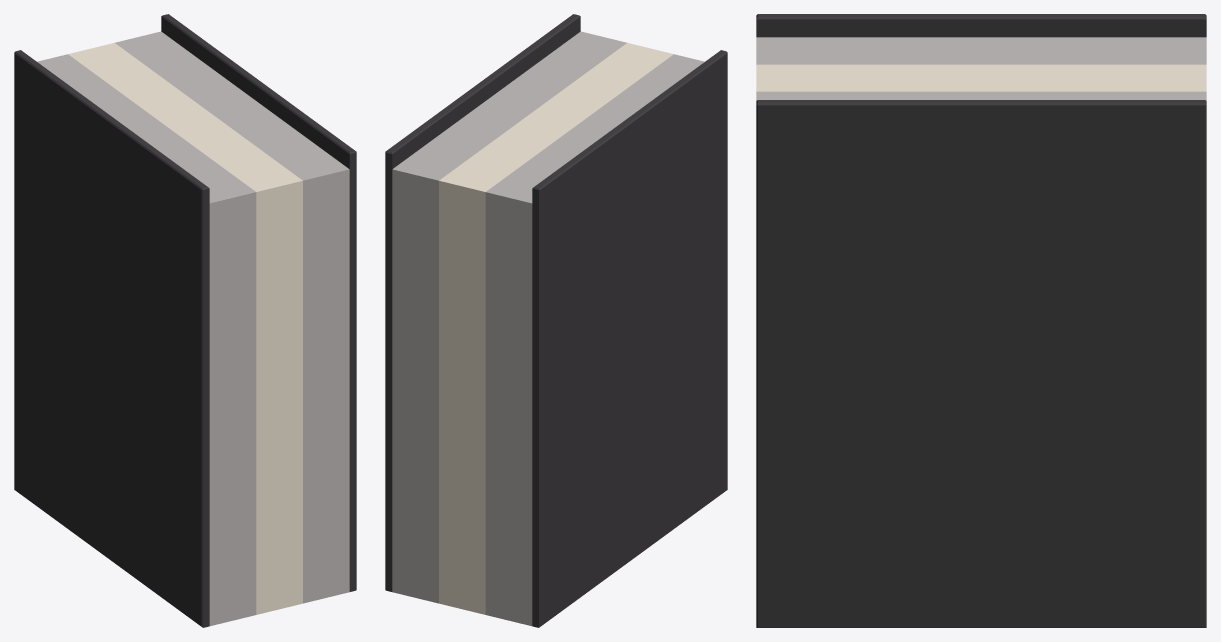
The model's file is Floor.fbx.
The picture shows the model from 3 angles, left to right: view 1: azimuth 30°, elevation 25°; view 2: azimuth 150°, elevation 25°; view 3: azimuth 270°, elevation 25°; orthographic projection. The views are drawn at different scales.
Visible parts, largest first — view 1: Floor; view 2: Floor; view 3: Floor.
Boxes of the visible parts, x1,y1,x2,y2 form: Floor: [14, 14, 356, 627]; Floor: [385, 14, 727, 627]; Floor: [756, 14, 1206, 627].
Bounding box in the file's own units: 2000 × 5400 × 4200.
